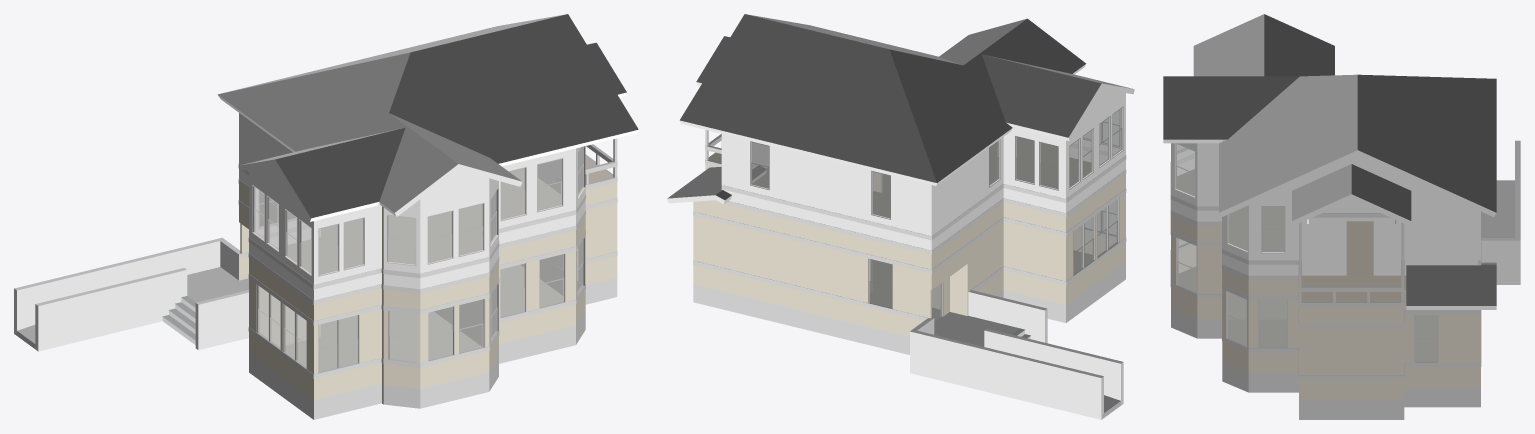
Rendered from asset.glb.
3 views of the same model, side by side, from view 1: azimuth 30°, elevation 25°; view 2: azimuth 150°, elevation 25°; view 3: azimuth 270°, elevation 25° (orthographic). The views are drawn at different scales.
Visible parts, largest first — view 1: Brep (×14), Instance-Def-InstanceDefinition_93, Instance-Def-InstanceDefinition_110, Instance-Def-InstanceDefinition_70 (×4), Instance-Def-InstanceDefinition_146, Instance-Def-InstanceDefinition_79, Instance-Def-InstanceDefinition_82, Instance-Def-InstanceDefinition_71, Instance-Def-InstanceDefinition_75 (×3), Instance-Def-InstanceDefinition_148, Instance-Def-InstanceDefinition_76 (×2), Instance-Def-InstanceDefinition_92 (+22 smaller); view 2: Brep (×16), Instance-Def-InstanceDefinition_91, Instance-Def-InstanceDefinition_113, Instance-Def-InstanceDefinition_115, Instance-Def-InstanceDefinition_99, Instance-Def-InstanceDefinition_83 (×7), Instance-Def-InstanceDefinition_112, Instance-Def-InstanceDefinition_110, Instance-Def-InstanceDefinition_82, Instance-Def-InstanceDefinition_81 (×4), Instance-Def-InstanceDefinition_92, Instance-Def-InstanceDefinition_77 (×2) (+16 smaller); view 3: Brep (×10), Instance-Def-InstanceDefinition_91, Instance-Def-InstanceDefinition_49, Instance-Def-InstanceDefinition_92, Instance-Def-InstanceDefinition_152, Instance-Def-InstanceDefinition_84, Instance-Def-InstanceDefinition_122, Instance-Def-InstanceDefinition_93, Instance-Def-InstanceDefinition_147, Instance-Def-InstanceDefinition_70 (×2), Instance-Def-InstanceDefinition_47, Instance-Def-InstanceDefinition_75 (×2) (+27 smaller).
Part boxes in pixels (x1=…): Brep (×14): x1=17, y1=14, x2=638, y2=370; Instance-Def-InstanceDefinition_93: x1=239, y1=127, x2=405, y2=221; Instance-Def-InstanceDefinition_110: x1=35, y1=268, x2=187, y2=351; Instance-Def-InstanceDefinition_70 (×4): x1=388, y1=254, x2=564, y2=361; Instance-Def-InstanceDefinition_146: x1=499, y1=229, x2=576, y2=344; Instance-Def-InstanceDefinition_79: x1=316, y1=288, x2=381, y2=399; Instance-Def-InstanceDefinition_82: x1=250, y1=259, x2=316, y2=400; Instance-Def-InstanceDefinition_71: x1=424, y1=276, x2=490, y2=388; Instance-Def-InstanceDefinition_75 (×3): x1=459, y1=159, x2=562, y2=256; Instance-Def-InstanceDefinition_148: x1=577, y1=182, x2=617, y2=284; Instance-Def-InstanceDefinition_76 (×2): x1=387, y1=211, x2=452, y2=265; Instance-Def-InstanceDefinition_92: x1=379, y1=113, x2=522, y2=216; Brep (×16): x1=695, y1=14, x2=1125, y2=346; Instance-Def-InstanceDefinition_91: x1=679, y1=14, x2=1012, y2=185; Instance-Def-InstanceDefinition_113: x1=695, y1=216, x2=932, y2=336; Instance-Def-InstanceDefinition_115: x1=910, y1=329, x2=1103, y2=419; Instance-Def-InstanceDefinition_99: x1=1003, y1=202, x2=1067, y2=305; Instance-Def-InstanceDefinition_83 (×7): x1=872, y1=107, x2=1123, y2=218; Instance-Def-InstanceDefinition_112: x1=695, y1=285, x2=909, y2=354; Instance-Def-InstanceDefinition_110: x1=984, y1=328, x2=1123, y2=405; Instance-Def-InstanceDefinition_82: x1=1067, y1=174, x2=1125, y2=303; Instance-Def-InstanceDefinition_81 (×4): x1=1073, y1=198, x2=1118, y2=274; Instance-Def-InstanceDefinition_92: x1=939, y1=19, x2=1085, y2=74; Instance-Def-InstanceDefinition_77 (×2): x1=751, y1=139, x2=1079, y2=189; Brep (×10): x1=1173, y1=14, x2=1514, y2=361; Instance-Def-InstanceDefinition_91: x1=1219, y1=74, x2=1496, y2=217; Instance-Def-InstanceDefinition_49: x1=1301, y1=307, x2=1404, y2=400; Instance-Def-InstanceDefinition_92: x1=1163, y1=76, x2=1299, y2=139; Instance-Def-InstanceDefinition_152: x1=1404, y1=294, x2=1480, y2=388; Instance-Def-InstanceDefinition_84: x1=1292, y1=164, x2=1411, y2=225; Instance-Def-InstanceDefinition_122: x1=1406, y1=264, x2=1496, y2=309; Instance-Def-InstanceDefinition_93: x1=1193, y1=14, x2=1264, y2=76; Instance-Def-InstanceDefinition_147: x1=1252, y1=280, x2=1295, y2=373; Instance-Def-InstanceDefinition_70 (×2): x1=1226, y1=291, x2=1287, y2=347; Instance-Def-InstanceDefinition_47: x1=1301, y1=401, x2=1404, y2=419; Instance-Def-InstanceDefinition_75 (×2): x1=1175, y1=143, x2=1247, y2=251.
Size of the model in its own units: 20006 by 10236 by 12710.
